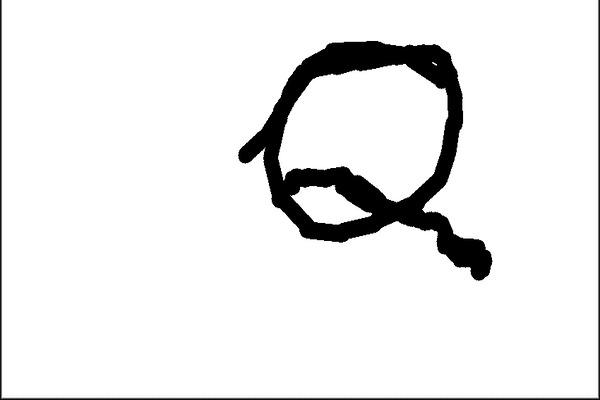Q: (235, 32, 500, 291)
